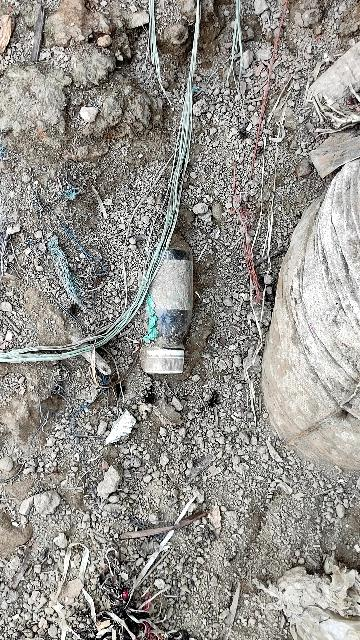bottle: (137, 240, 206, 384)
